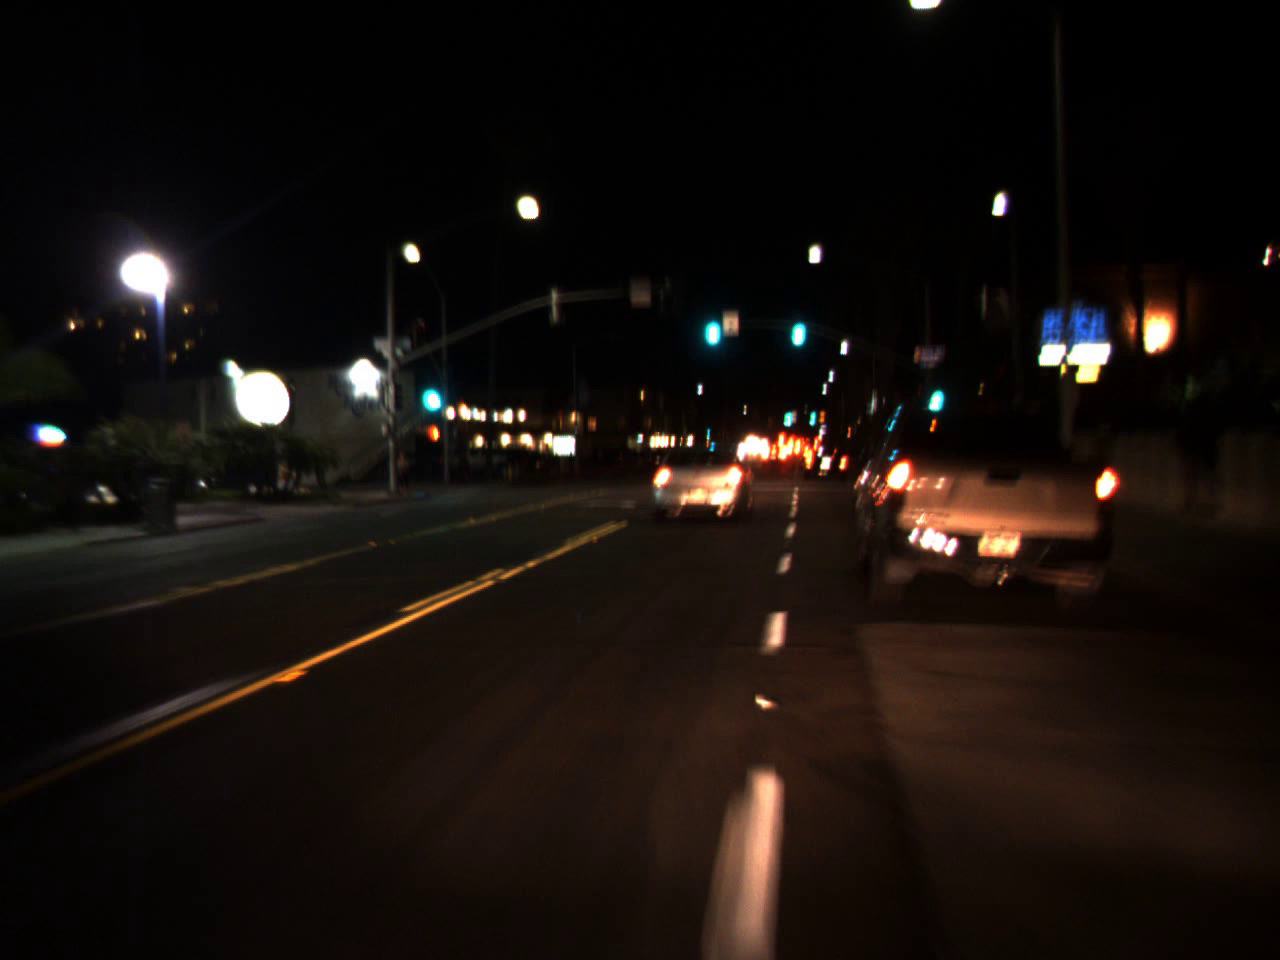go: (414, 358, 444, 421), (699, 289, 724, 355), (785, 292, 808, 355), (922, 370, 945, 418), (783, 396, 793, 429), (807, 399, 814, 426)
